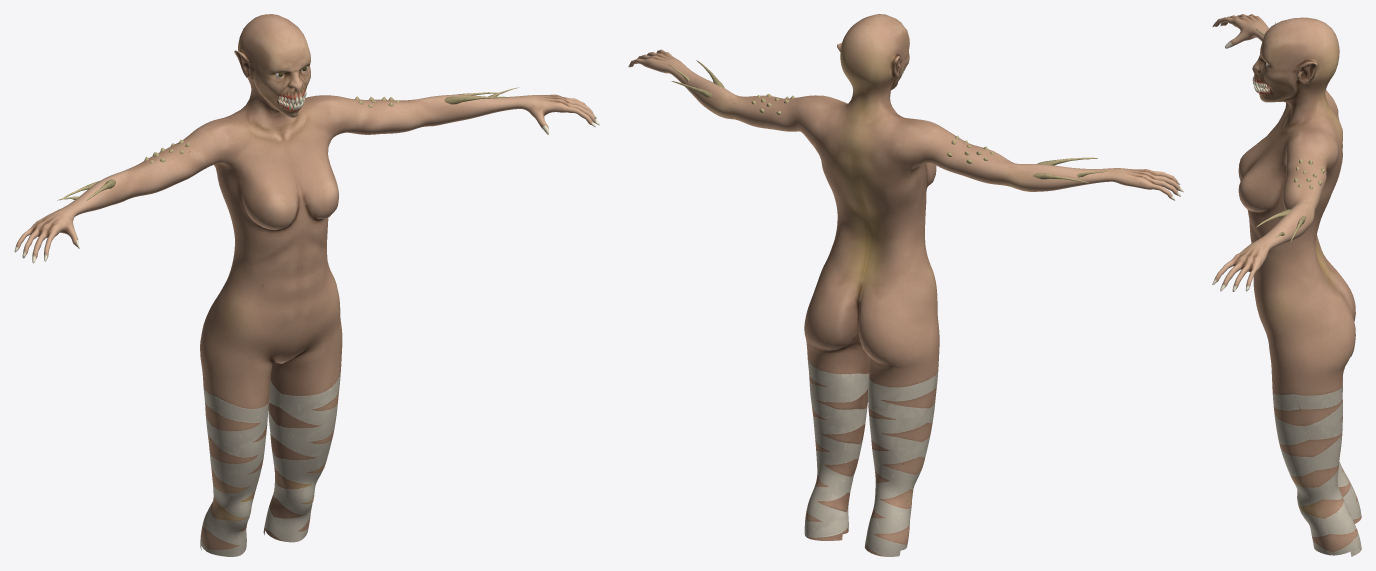
The model's file is Lina_Fixed_No_Hair.fbx.
3 renders of one model, left to right at view 1: azimuth 30°, elevation 25°; view 2: azimuth 150°, elevation 25°; view 3: azimuth 270°, elevation 25°, orthographic. The views are drawn at different scales.
Visible parts, largest first — view 1: body_low; view 2: body_low; view 3: body_low.
Part boxes in pixels (box(x1,y1,x2,y2)): body_low: box(14, 14, 599, 556); body_low: box(628, 14, 1183, 556); body_low: box(1212, 14, 1361, 556).
Size of the model in its own units: 159 by 141 by 37.04.
